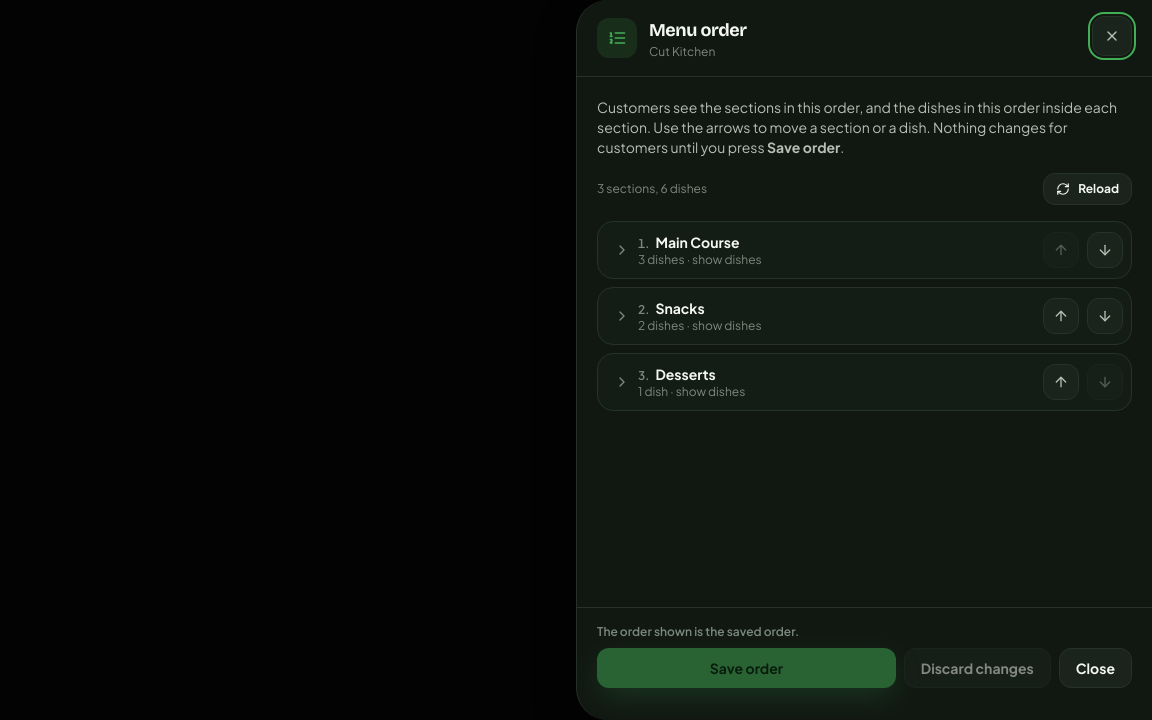
Test: reordering sections › moving something back puts the status back to saved
Click the button named "Move section Snacks up".
click(1061, 316)  # box [1043, 298, 1079, 334]
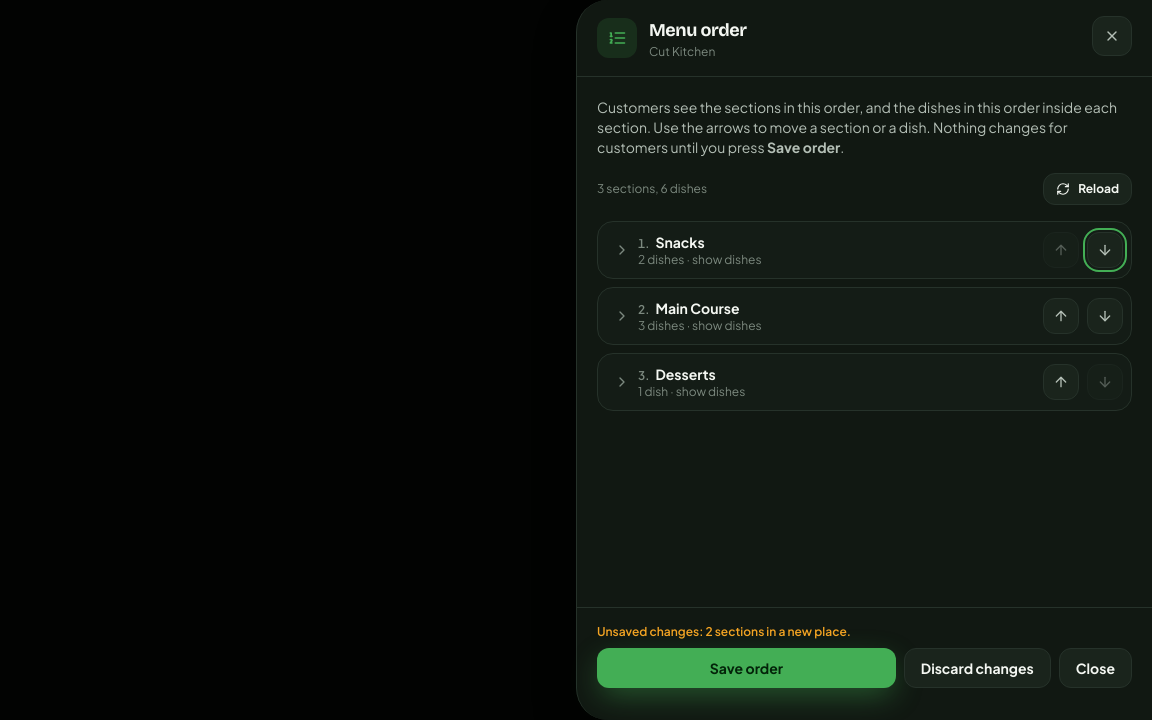
Click the button named "Move section Snacks down".
click(1105, 250)  # box [1087, 232, 1123, 268]
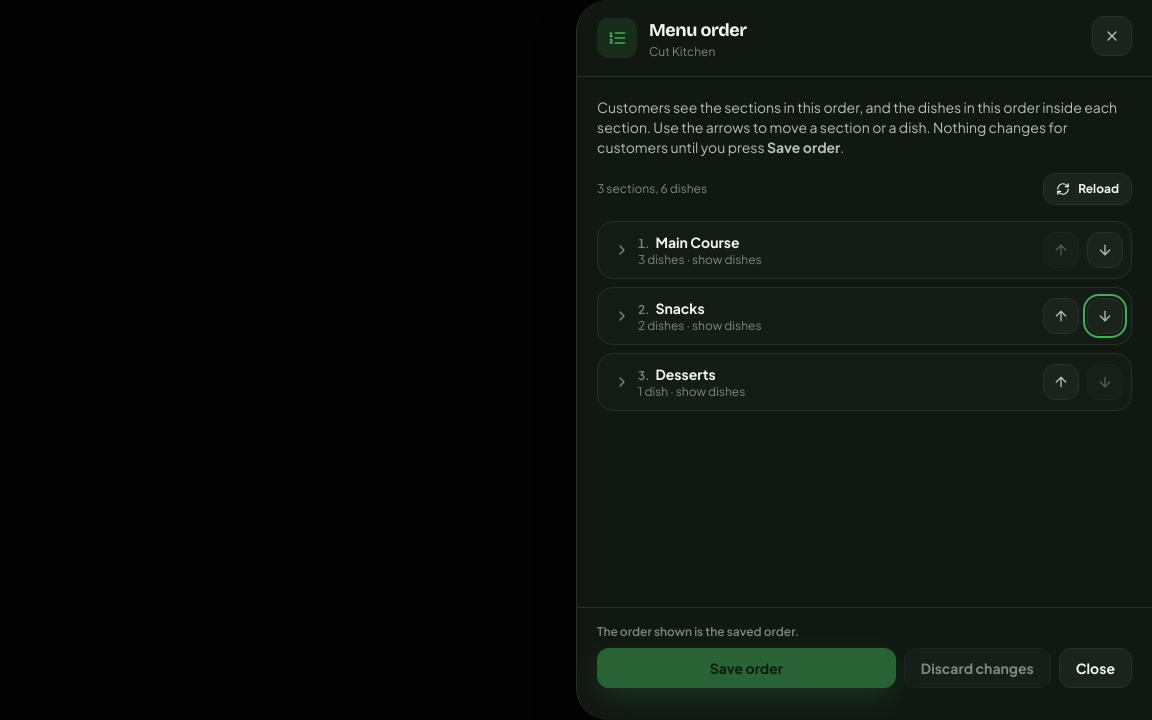
Expected: the message with test id "order-status" reads "The order shown is the saved order.", [597, 624, 799, 639]
Expected: the button "Save order" is disabled, [597, 648, 896, 688]
